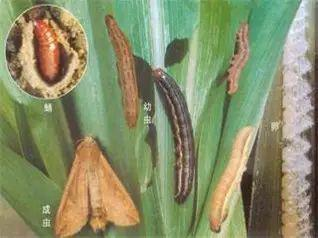larva: (145, 67, 202, 206), (98, 8, 153, 145), (207, 117, 257, 238), (223, 16, 258, 109)
moth: (44, 129, 146, 238)
pupa: (28, 13, 68, 85)
